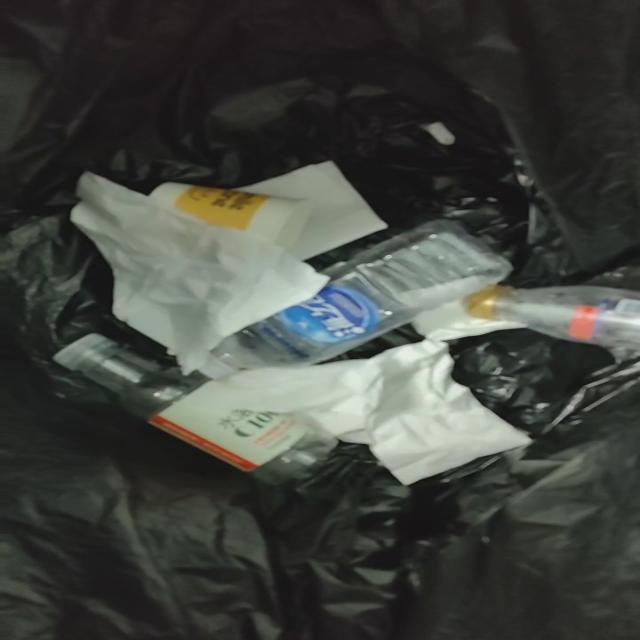bottle: (200, 220, 511, 376), (52, 333, 338, 481), (464, 285, 639, 350)
dixie_cup: (150, 184, 310, 250)
paper: (70, 173, 327, 374), (188, 340, 531, 486), (236, 161, 386, 260), (400, 276, 524, 341)
